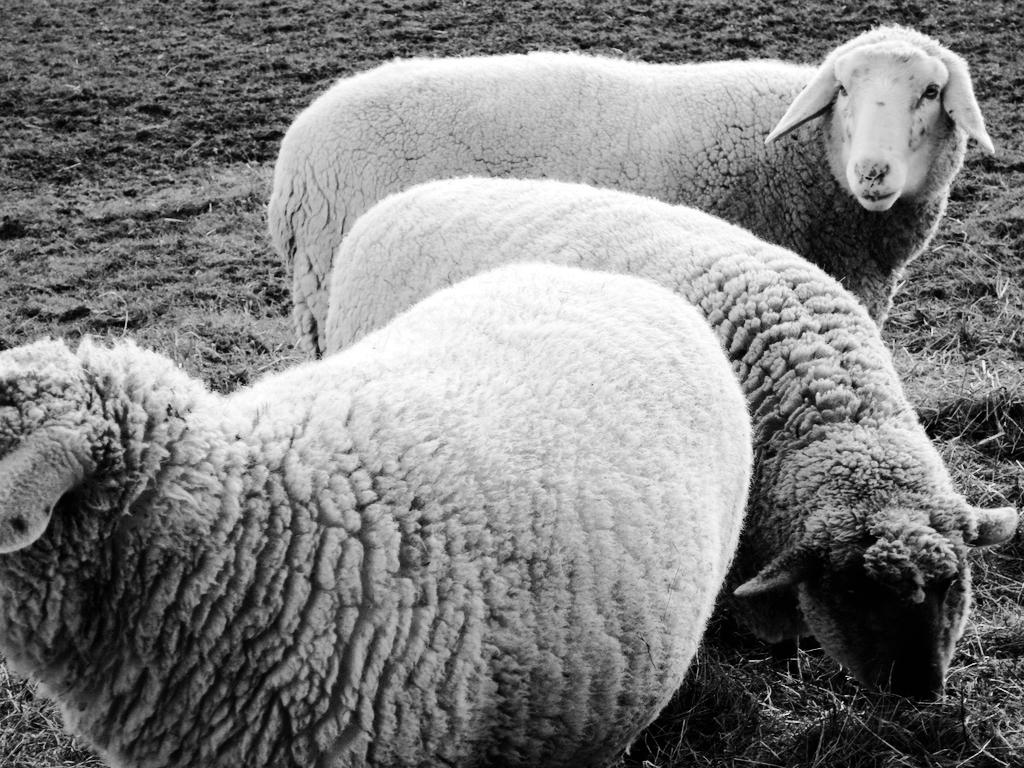Sheep: (0, 256, 754, 768), (326, 174, 1020, 714), (267, 27, 994, 361)
